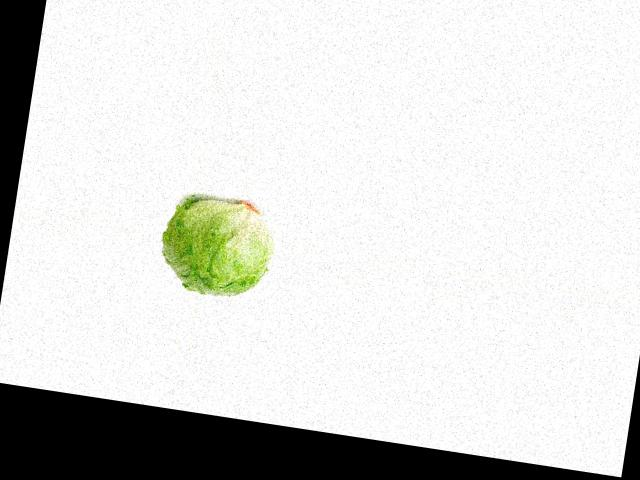lettuce: (155, 193, 273, 303)
